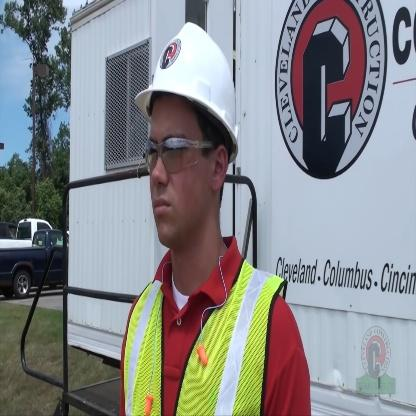helmet: (130, 18, 241, 259)
